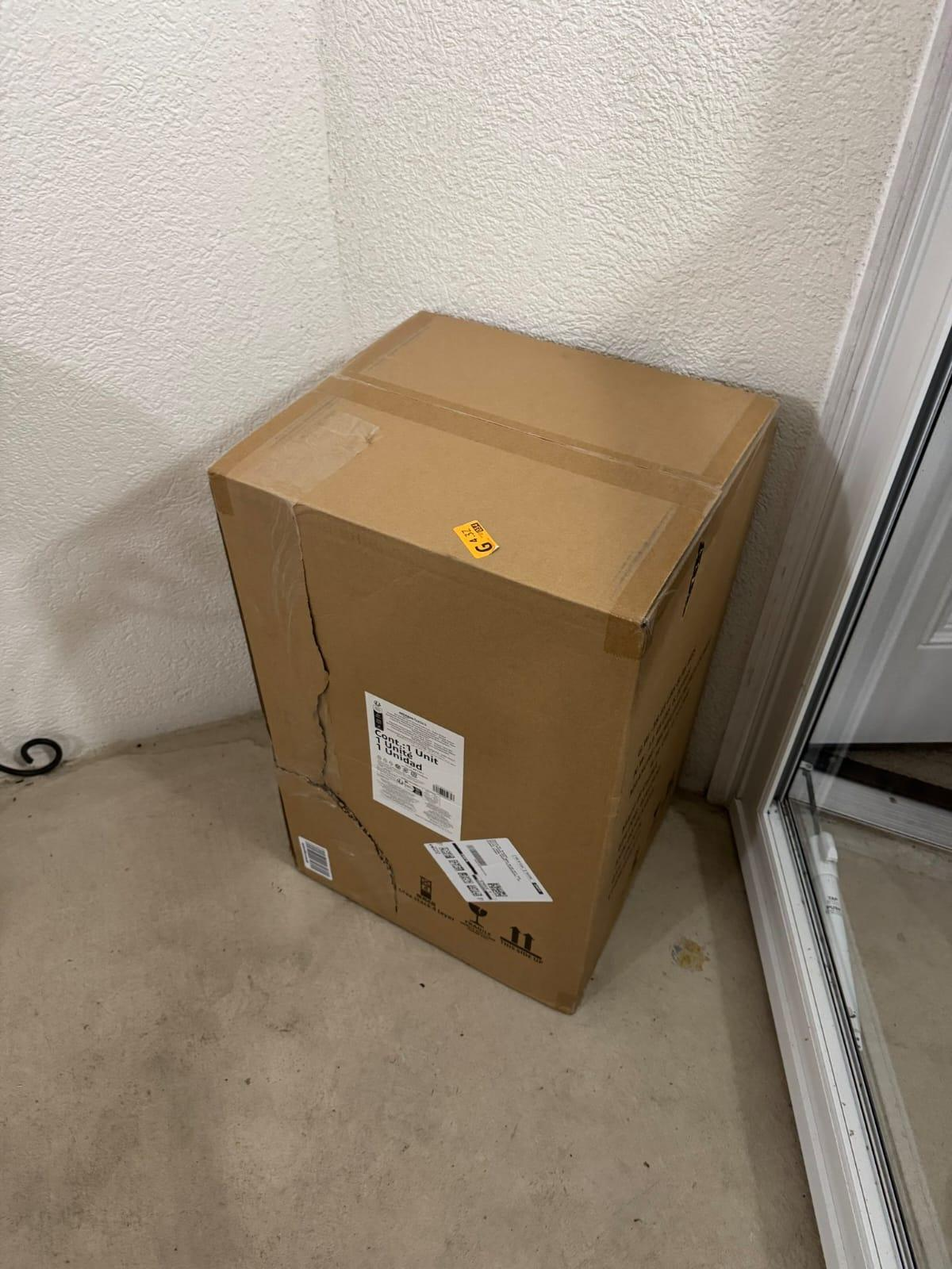damaged package: (270, 501, 403, 916)
undamaged: (192, 278, 809, 1072)
